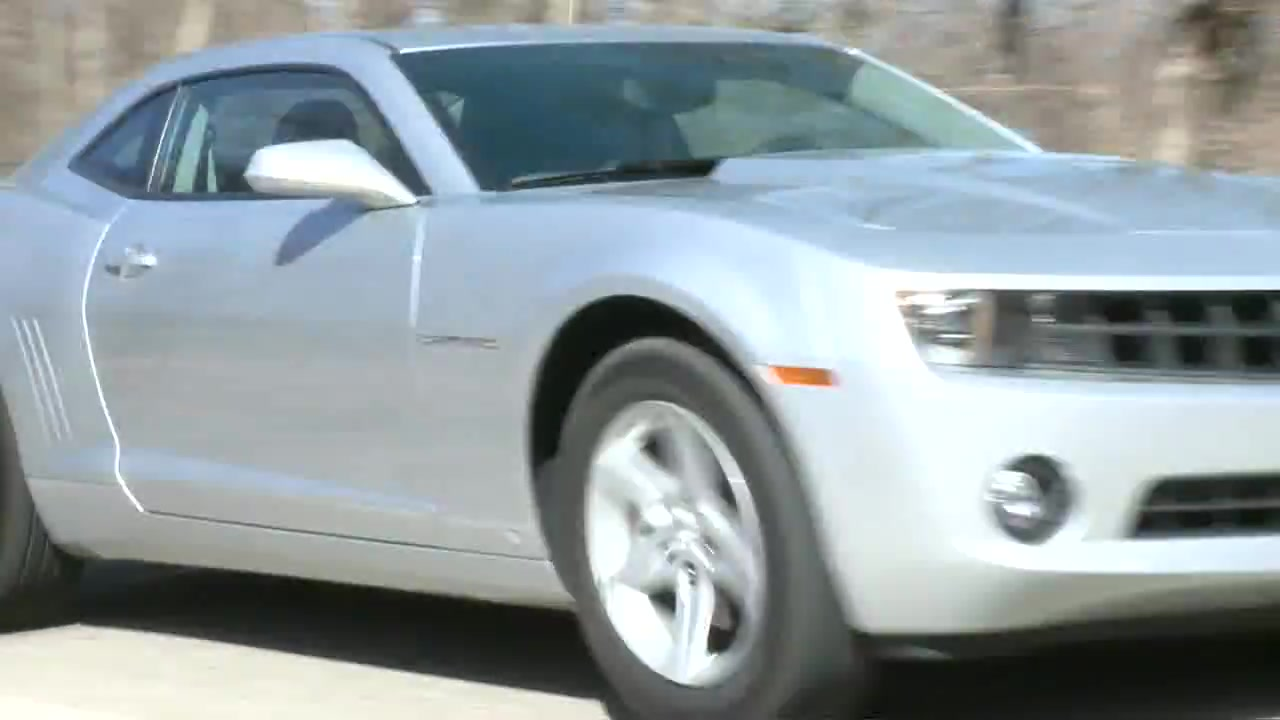car: (4, 23, 1280, 720)
